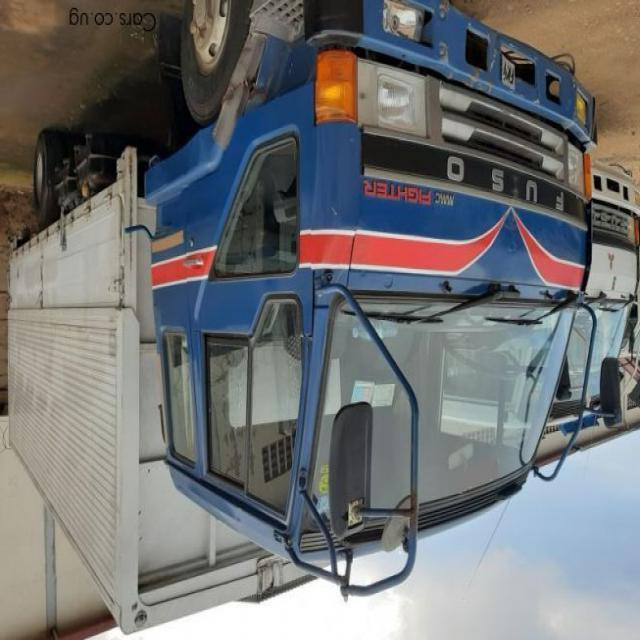truck: (9, 1, 620, 636)
